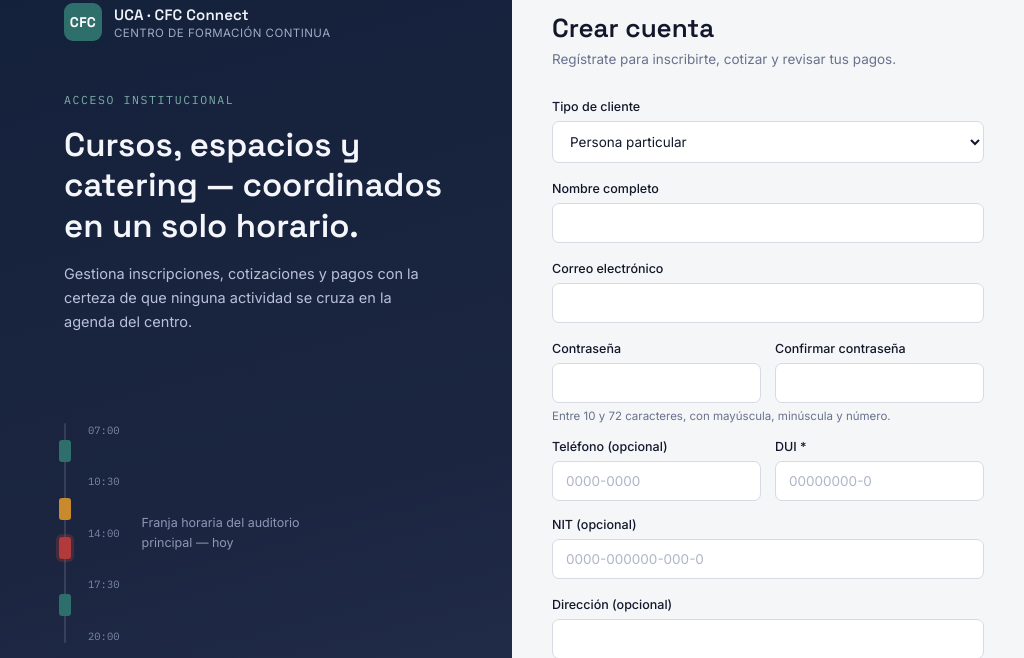
Scenario: Identificación obligatoria en registro › bloquea una empresa sin NIT
The image size is (1024, 658).
Select "Empresa" in the dropdown labelled "Tipo de cliente" at (768, 142), box [552, 121, 984, 163]
(page scrolled)
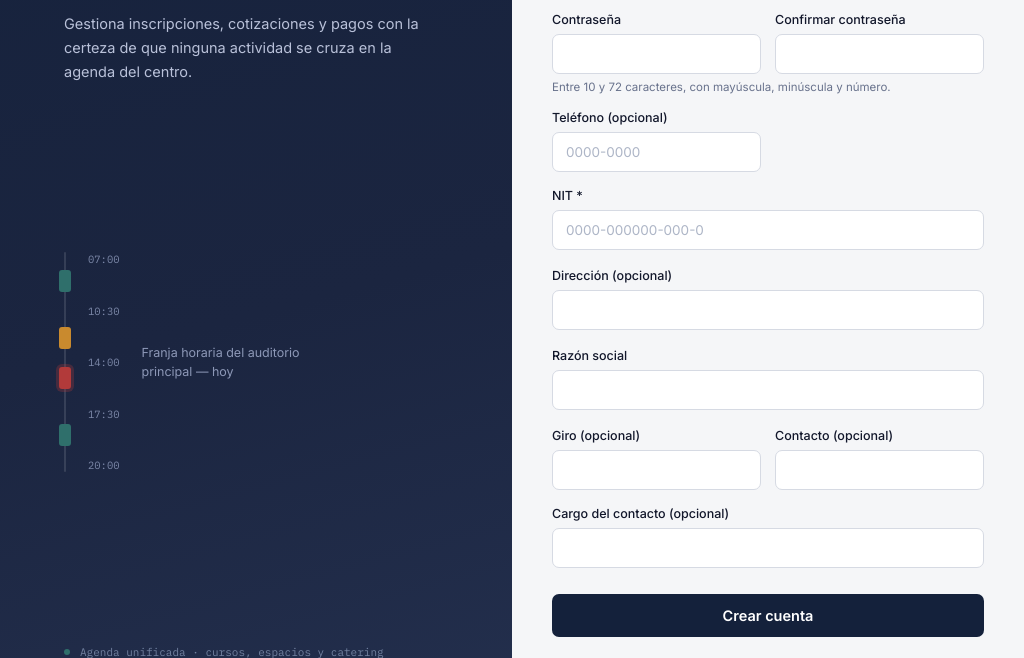
Click the button "Crear cuenta" at (768, 616), box [552, 594, 984, 637]
(page scrolled)
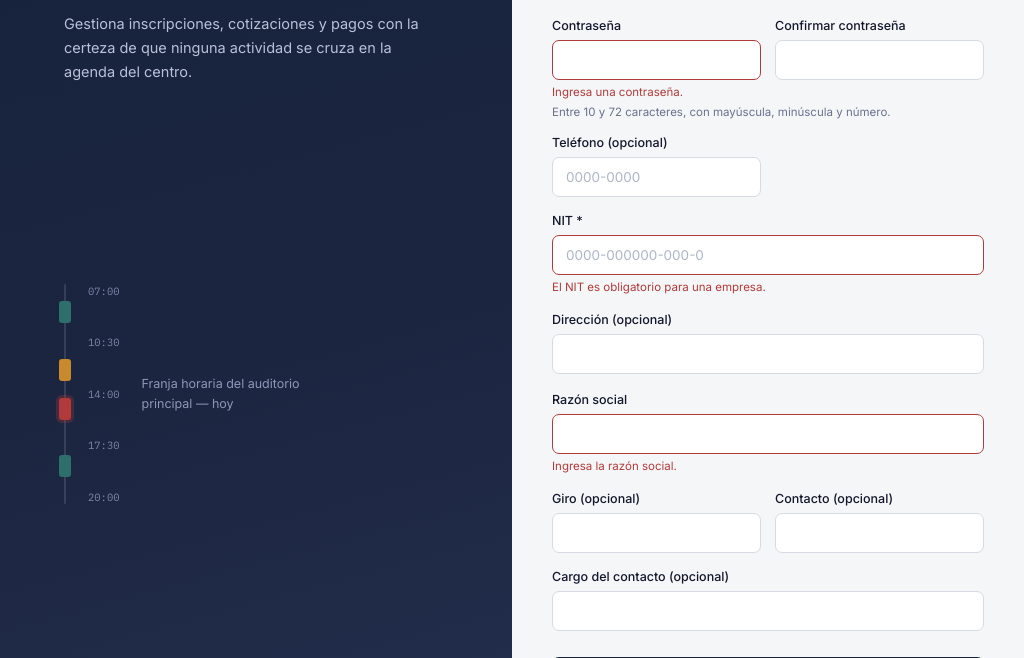
Expected: the label labelled "DUI *" is not shown
Expected: the text "El NIT es obligatorio para una empresa." is shown, [552, 280, 766, 294]
